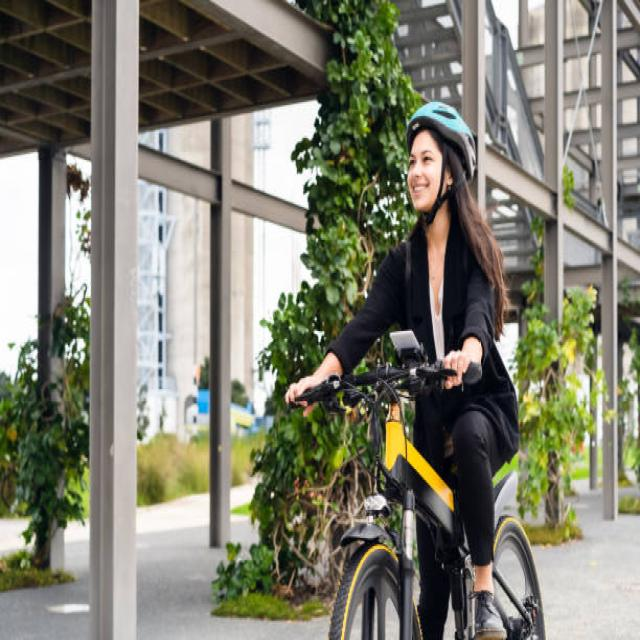bicycle: (285, 101, 544, 639)
